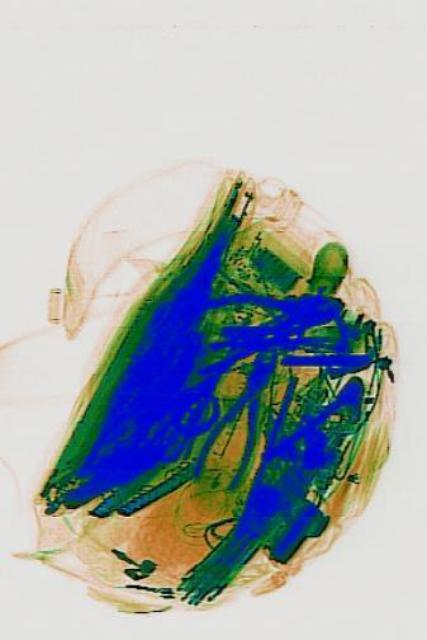Pliers: (186, 331, 291, 504), (187, 266, 346, 378)
